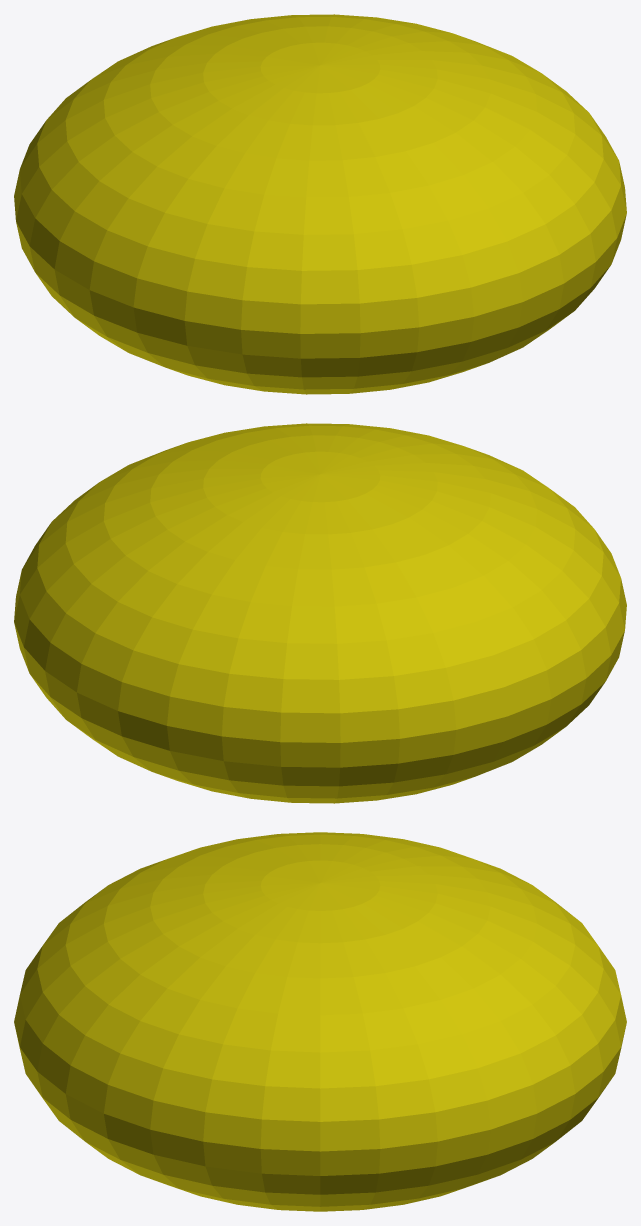
Rendered from miolo.obj.
3 renders of one model, top to bottom at view 1: azimuth 30°, elevation 25°; view 2: azimuth 150°, elevation 25°; view 3: azimuth 270°, elevation 25°, orthographic.
Visible parts, largest first — view 1: Sphere.000; view 2: Sphere.000; view 3: Sphere.000.
Part boxes in pixels (x1,y1,x2,y2): Sphere.000: [14, 14, 626, 394]; Sphere.000: [14, 423, 626, 803]; Sphere.000: [14, 832, 626, 1211].
Size of the model in its own units: 2 by 1 by 2.
